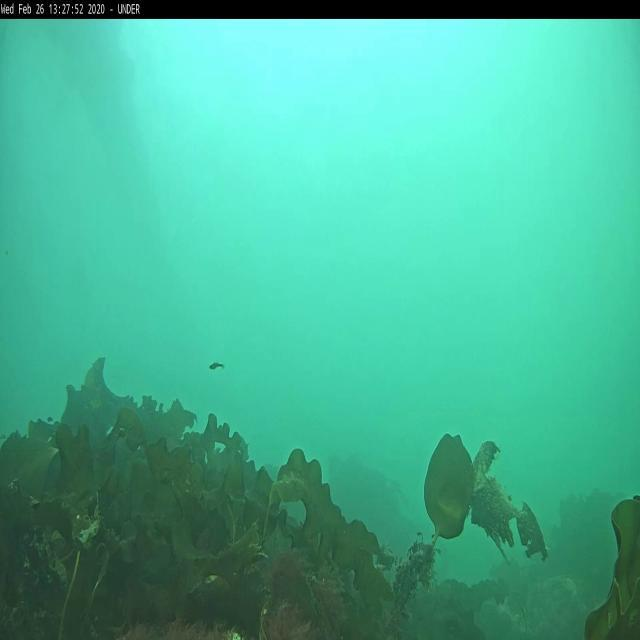fish: (210, 360, 227, 373)
